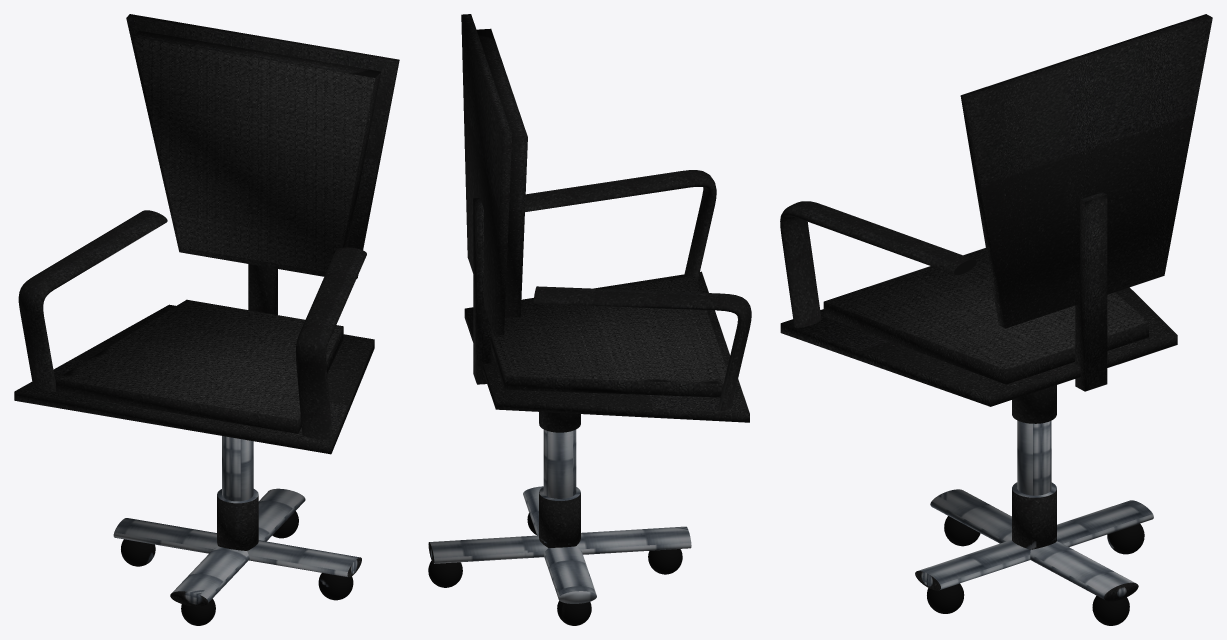
Rendered from ChairFix.fbx.
3 views of the same model, side by side, from view 1: azimuth 30°, elevation 25°; view 2: azimuth 150°, elevation 25°; view 3: azimuth 270°, elevation 25° (orthographic). The views are drawn at different scales.
Visible parts, largest first — view 1: Chair; view 2: Chair; view 3: Chair.
Part boxes in pixels (box(x1,y1,x2,y2)): Chair: box(14, 14, 399, 625); Chair: box(428, 14, 751, 625); Chair: box(780, 14, 1212, 625).
Size of the model in its own units: 318 by 462 by 328.
